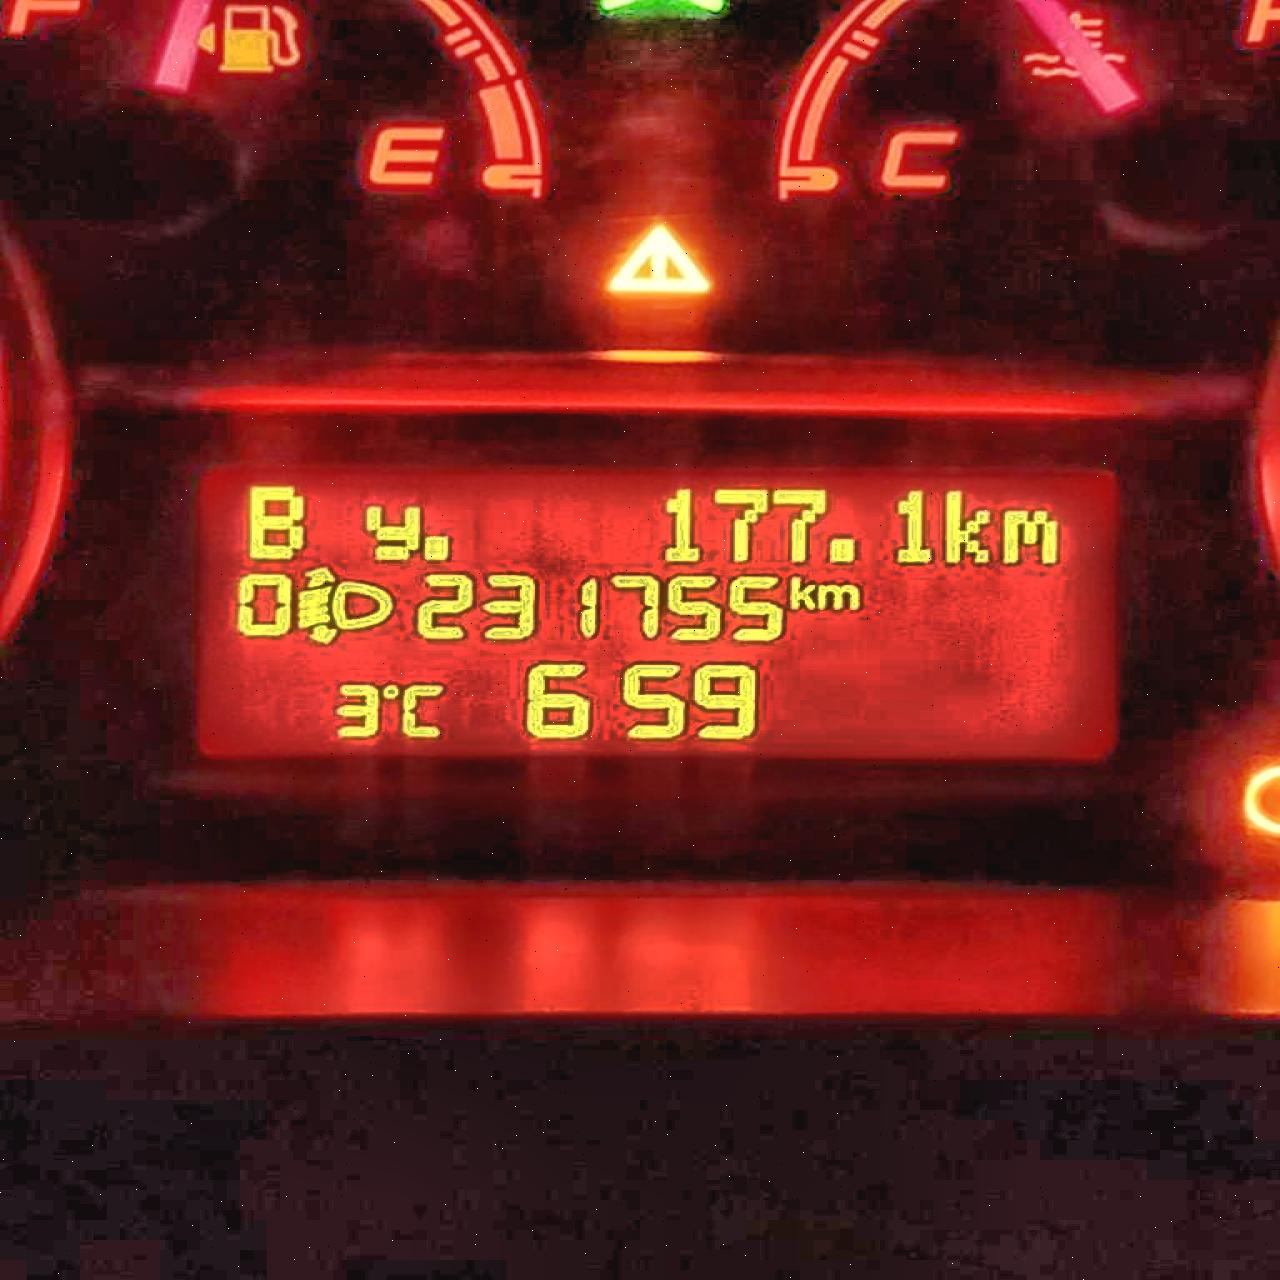-: (420, 533, 450, 561), (825, 536, 855, 564)
0: (233, 572, 293, 636)
1: (893, 488, 932, 564), (662, 486, 700, 561), (574, 577, 598, 639)
2: (411, 571, 475, 640)
3: (478, 571, 537, 640), (332, 682, 380, 737)
5: (617, 661, 686, 740), (663, 573, 722, 641), (727, 574, 783, 640)
6: (522, 661, 591, 738)
7: (710, 488, 768, 563), (770, 488, 826, 563), (607, 572, 660, 639)
9: (688, 661, 758, 740)
X: (244, 484, 304, 561), (940, 488, 992, 564), (361, 503, 422, 561), (999, 509, 1058, 565), (399, 682, 443, 738), (815, 583, 860, 610), (787, 574, 816, 610)
odometer: (189, 457, 1125, 768)
